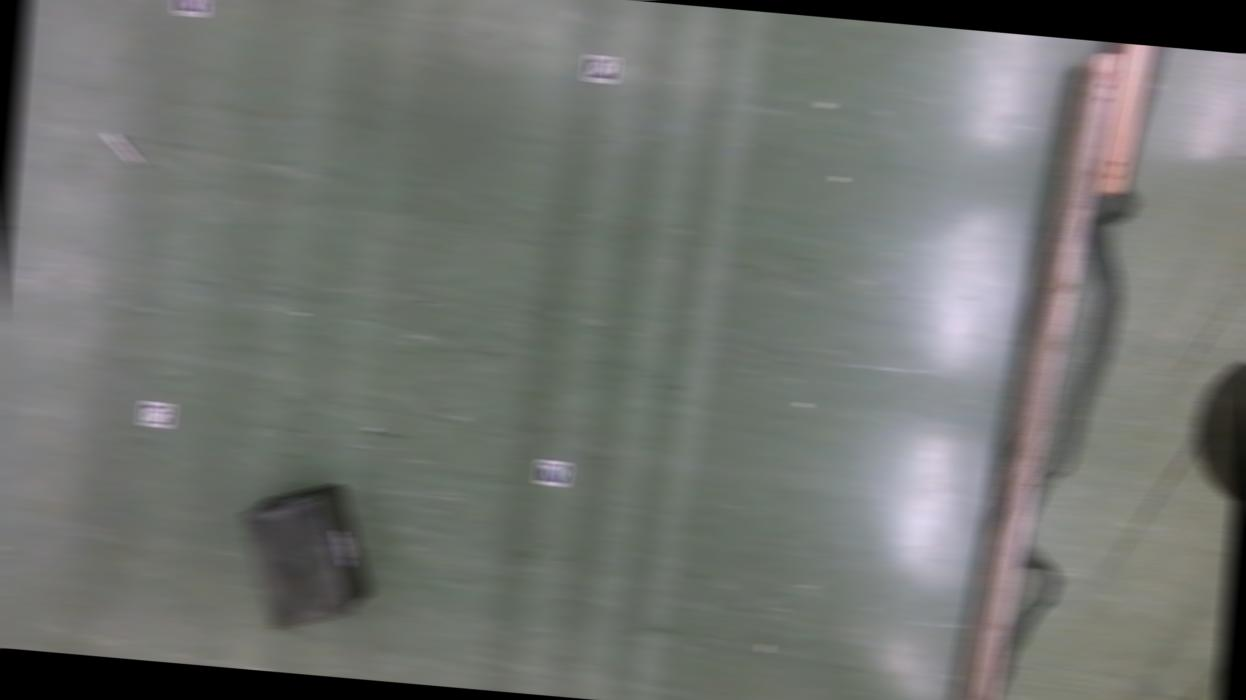probes: (101, 131, 146, 167)
rako: (231, 473, 382, 636)
